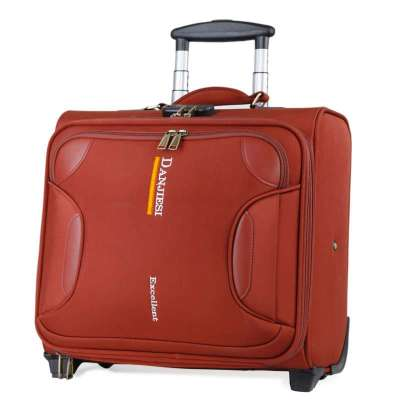luggage: (32, 19, 353, 392)
